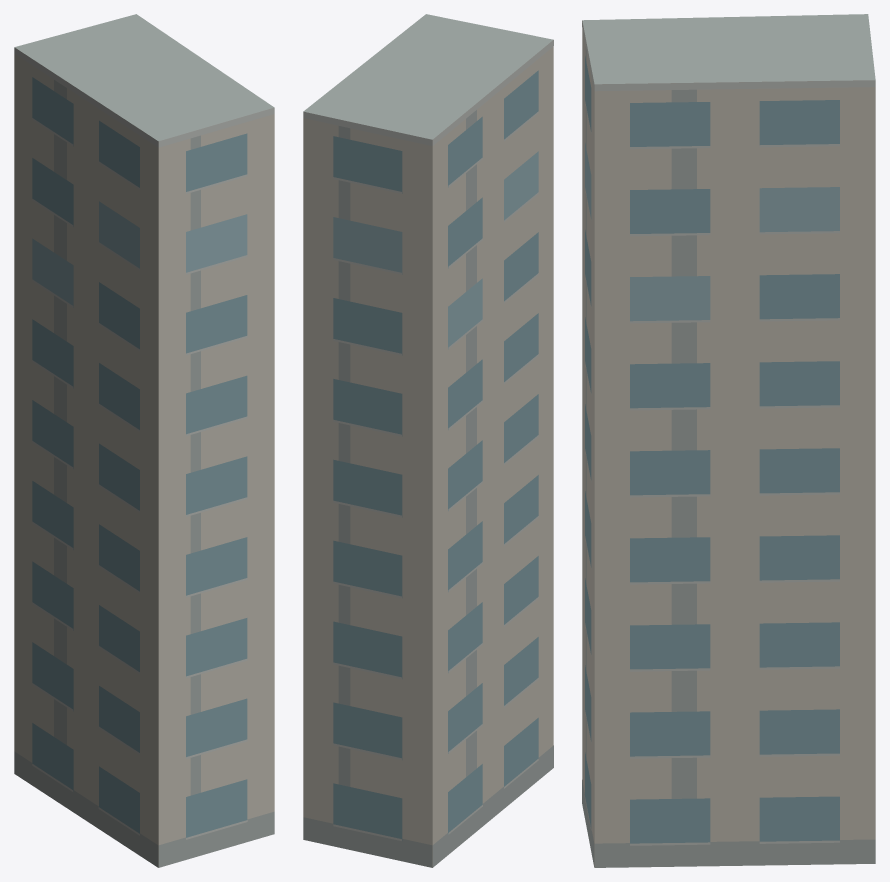
The model's file is survey-upis-32768531.glb.
The picture shows the model from 3 angles, left to right: view 1: azimuth 30°, elevation 25°; view 2: azimuth 150°, elevation 25°; view 3: azimuth 270°, elevation 25°; orthographic projection. The views are drawn at different scales.
Parts seen in each view (by area): view 1: survey-upis-32768531.tmp; view 2: survey-upis-32768531.tmp; view 3: survey-upis-32768531.tmp.
Part boxes in pixels (box(x1,y1,x2,y2)): survey-upis-32768531.tmp: box(14, 14, 274, 867); survey-upis-32768531.tmp: box(303, 14, 553, 867); survey-upis-32768531.tmp: box(582, 14, 875, 867).
Size of the model in its own units: 5.29 by 27.45 by 9.33.
